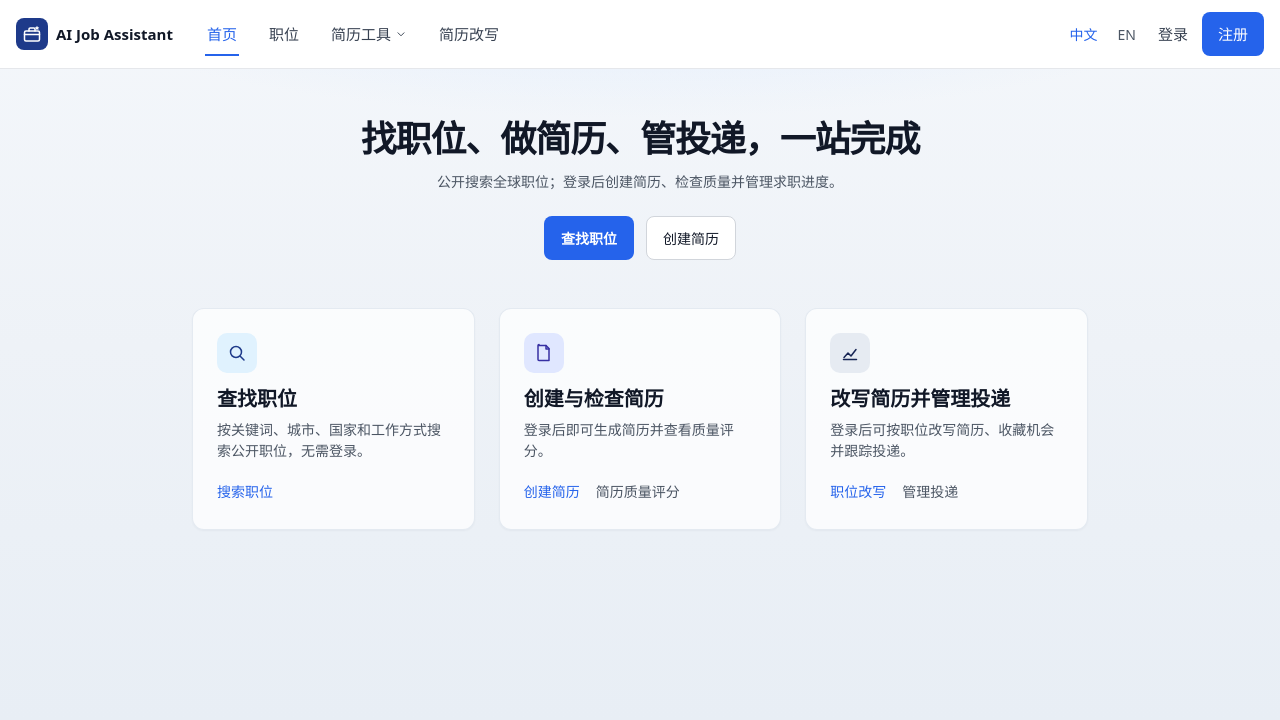
Scenario: design preview (DEV prototype) › opens resume-tools with keyboard-accessible items and Escape
The width and height of the screenshot is (1280, 720).
Click the button "简历工具".
click(369, 34)  # box [329,12,409,56]
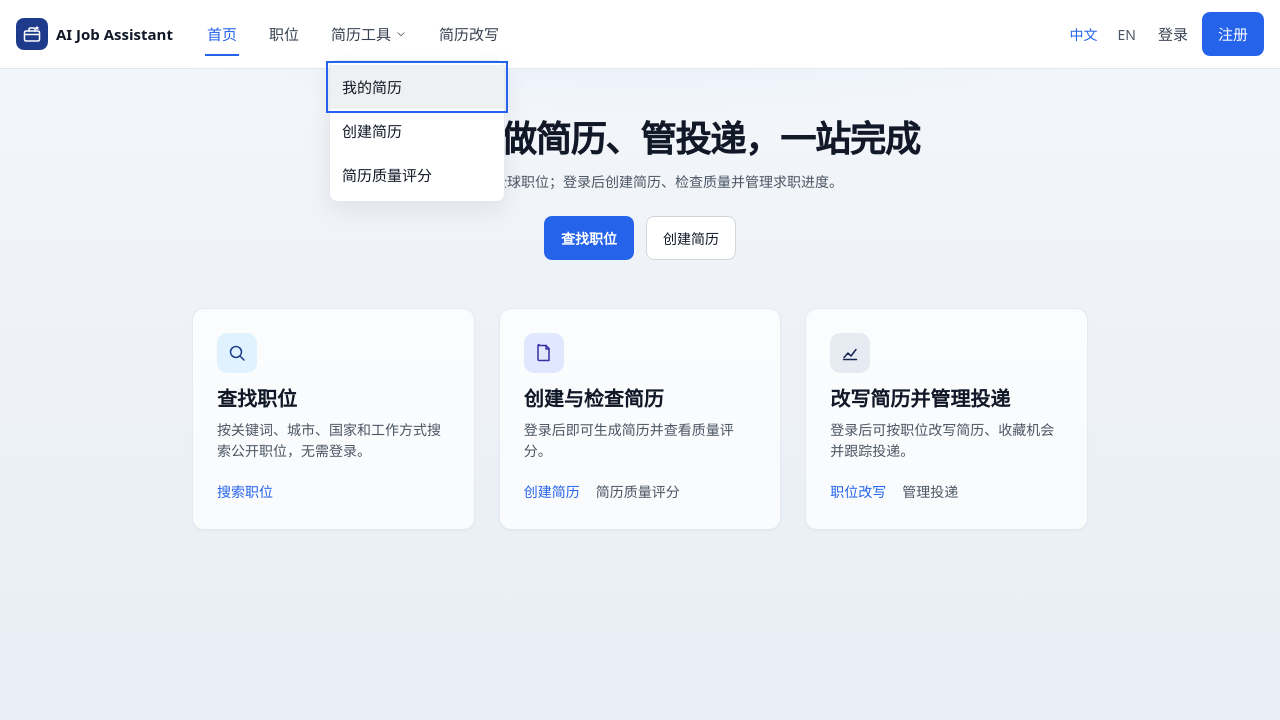
Expected: the menu item "简历质量评分" is shown, [342,165,432,185]
Press Escape
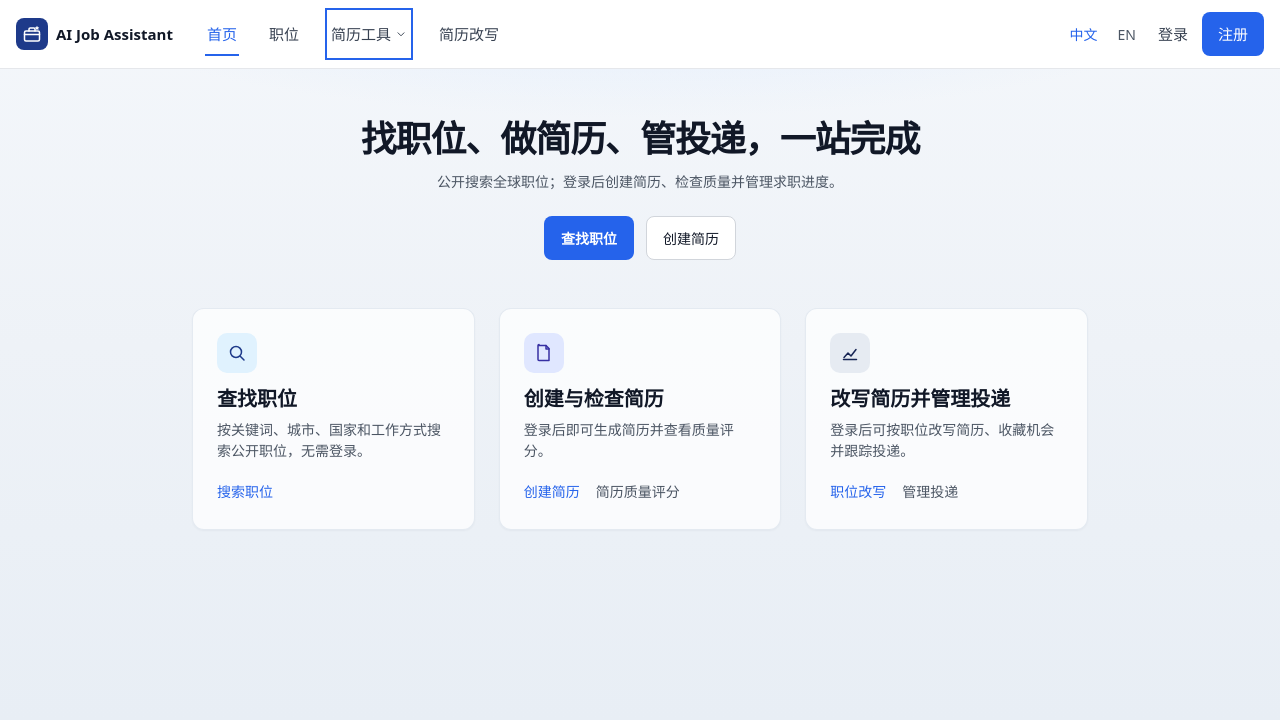
Expected: the menu is gone
